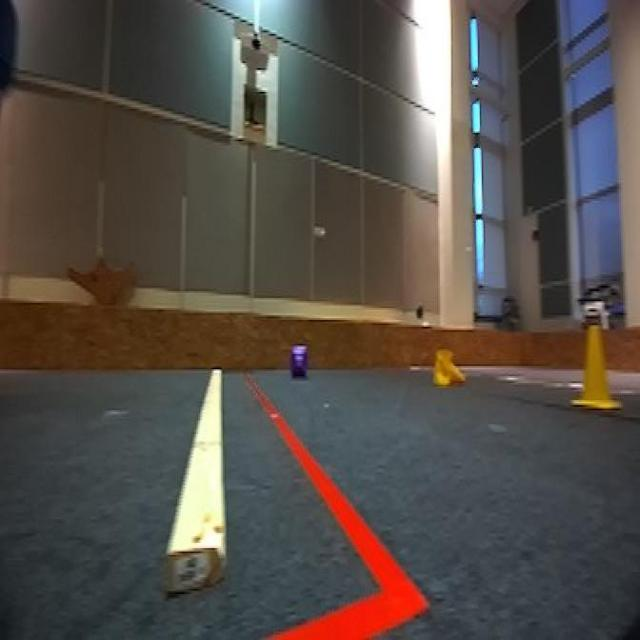frc_cone: (570, 322, 618, 410), (428, 346, 468, 388)
frc_cube: (288, 346, 308, 380)
